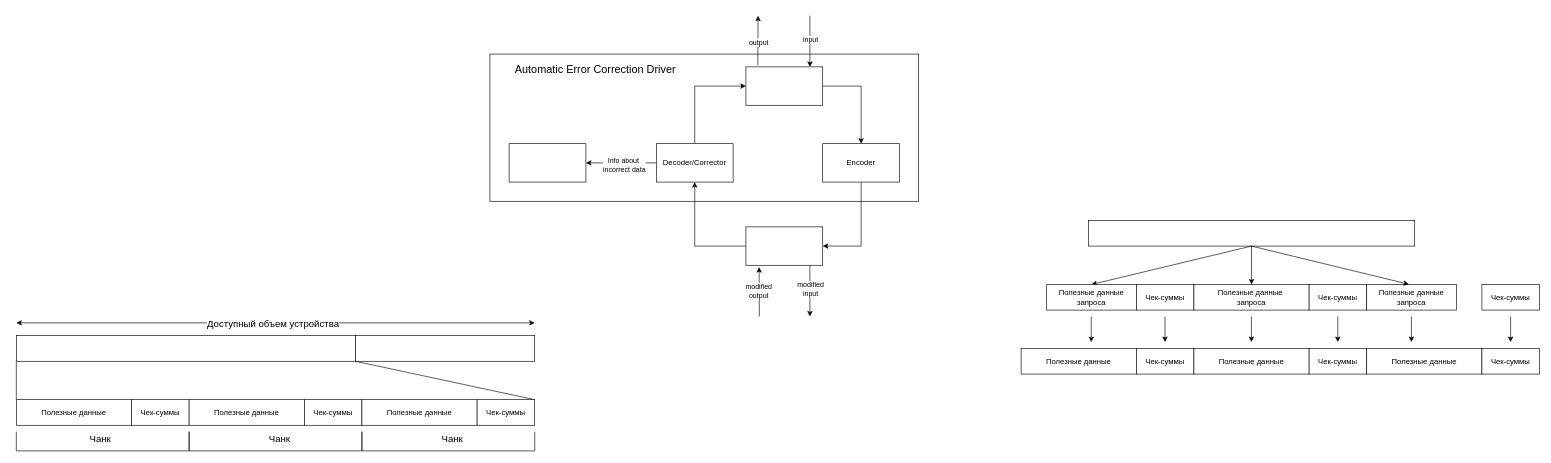
Some shapes in this 1551 by 463 pixel diagram are drawn without their labels. Here are the shapes that lost their labels. From the top down, the centre of each, then its label:
(784,85): I/O module
(547,162): Logger
(784,245): Another block driver
(1251,233): Непрерывные полезные данные запроса
(186,348): Чанкиризованные данные
(445,348): ECC данные
